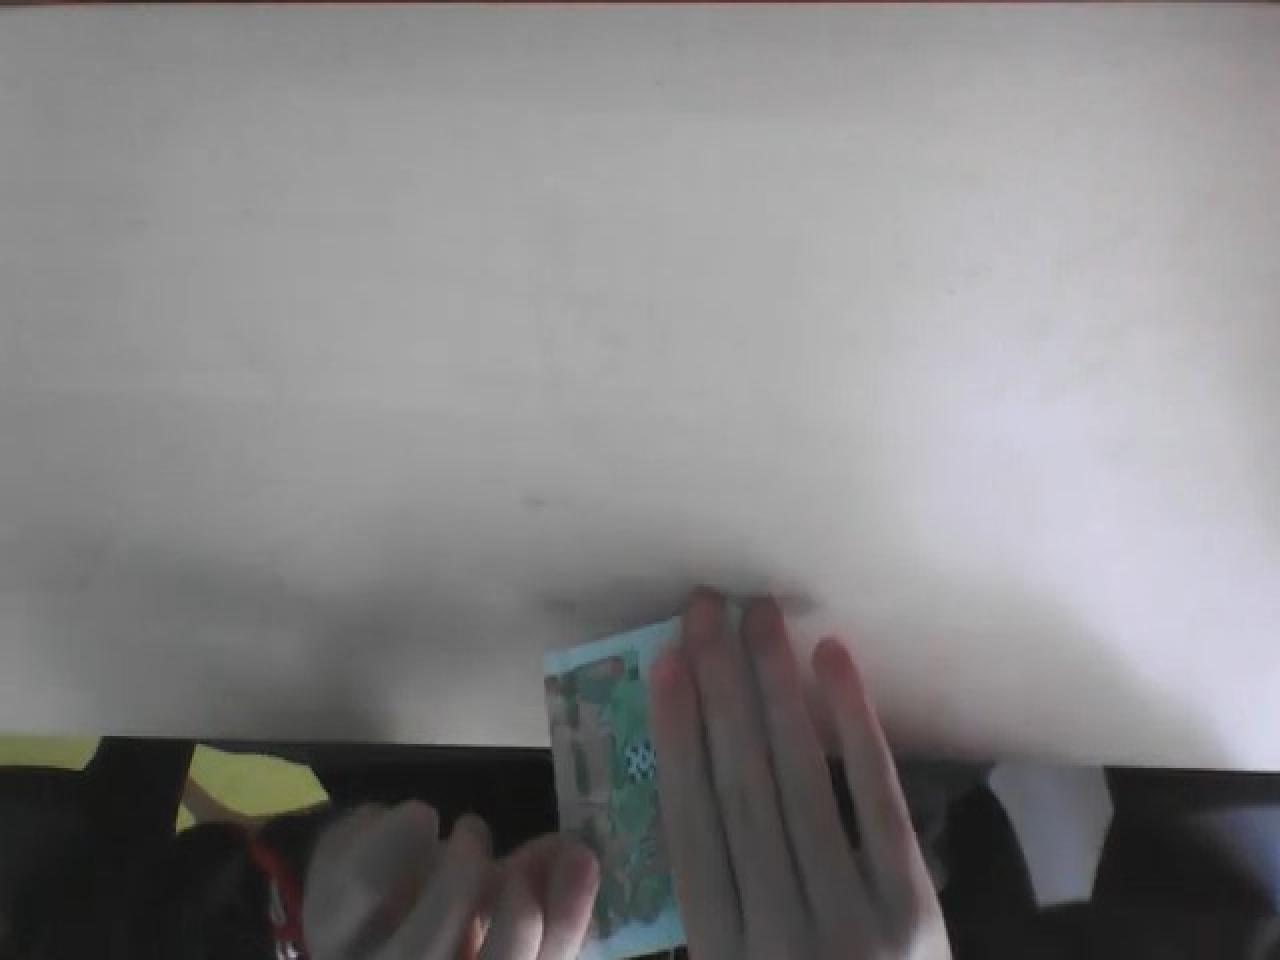100leva: (544, 616, 806, 960)
